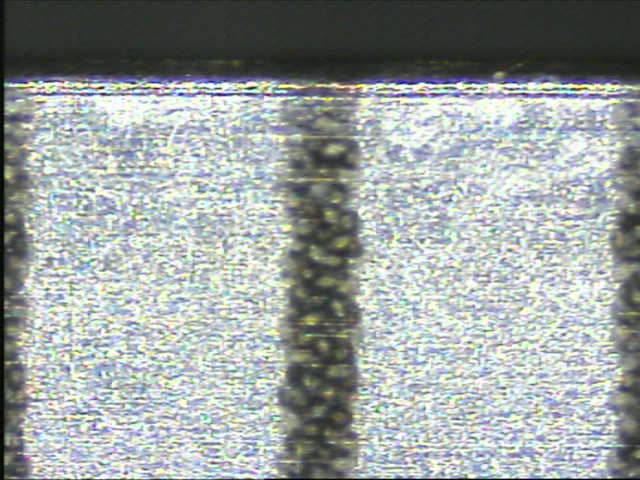line: (276, 82, 365, 469)
